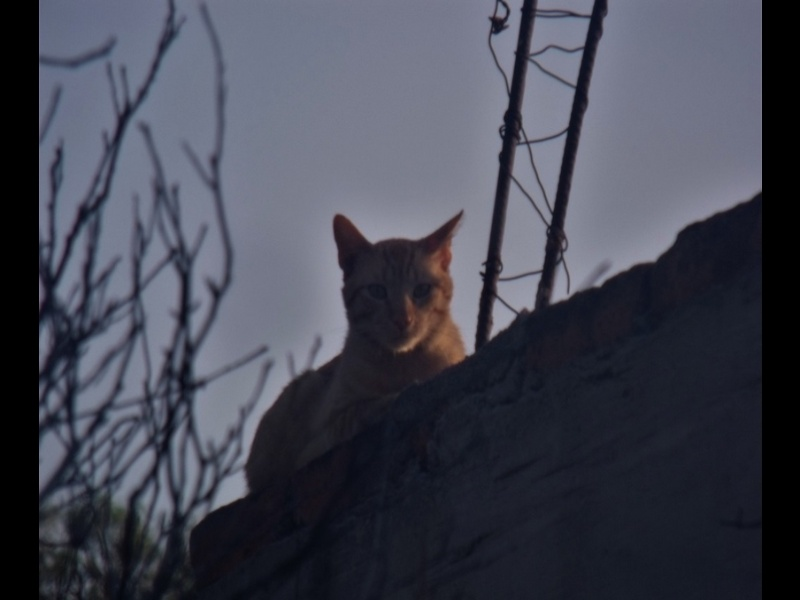cat: (230, 206, 478, 501)
